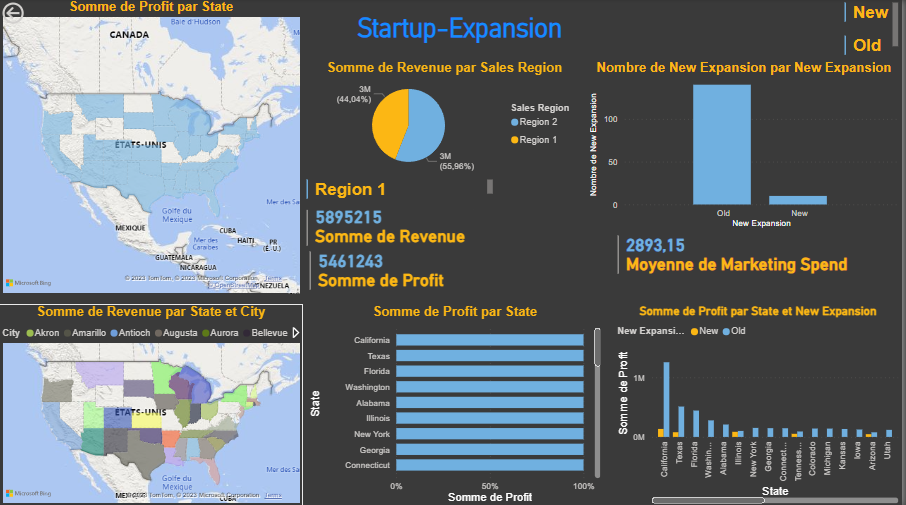

The page's visual inventory and layout, read from the dashboard file:
{"tool":"powerbi","page":{"name":"Page 1","canvas":[1280,720],"ordinal":0},"visuals":[{"type":"filledMap","fields":{"Category":["startups-expension-modified.State"],"Y":["Sum(startups-expension-modified.Profit)"]},"box":[0,0,430.9,422.4],"z":0},{"type":"textbox","box":[434.9,13,436.3,59],"z":1000},{"type":"filledMap","fields":{"Y":["Sum(startups-expension-modified.Revenue)"],"Category":["startups-expension-modified.State"],"Series":["startups-expension-modified.City"]},"box":[0,432.3,430.9,287.7],"z":2000},{"type":"clusteredColumnChart","fields":{"Y":["CountNonNull(startups-expension-modified.New Expansion)"],"Category":["startups-expension-modified.New Expansion"]},"box":[832,86.5,447.9,243.8],"z":3000},{"type":"pieChart","fields":{"Y":["Sum(startups-expension-modified.Revenue)"],"Category":["startups-expension-modified.Sales Region"]},"box":[430.9,86.5,401.1,164.4],"z":4000},{"type":"multiRowCard","fields":{"Values":["Sum(startups-expension-modified.Revenue)"]},"box":[430.9,290.6,240.9,69.4],"z":5000},{"type":"multiRowCard","fields":{"Values":["Sum(startups-expension-modified.Profit)"]},"box":[435.1,352.9,219.7,69.4],"z":6000},{"type":"multiRowCard","fields":{"Values":["Avg(startups-expension-modified.Marketing Spend)"]},"box":[871.7,330.2,345.8,75.1],"z":7000},{"type":"multiRowCard","fields":{"Values":["startups-expension-modified.Sales Region"]},"box":[430.9,250.9,273.5,48.2],"z":8000},{"type":"multiRowCard","fields":{"Values":["startups-expension-modified.New Expansion"]},"box":[1193.4,0,86.5,86.5],"z":9000},{"type":"hundredPercentStackedBarChart","fields":{"Y":["Sum(startups-expension-modified.Profit)"],"Category":["startups-expension-modified.State","startups-expension-modified.Store ID"]},"box":[435.1,432.3,422.4,287.7],"z":10000},{"type":"actionButton","box":[0,0,100,40],"z":11000},{"type":"clusteredColumnChart","fields":{"Category":["startups-expension-modified.State"],"Y":["Sum(startups-expension-modified.Profit)"],"Series":["startups-expension-modified.New Expansion"]},"box":[871.7,432.3,408.2,287.7],"z":12000}]}

Visuals, with their boxes in screenshot pixels (x1, y1, x2, y2), scaled from the page's 1280x720 canvas onto the 906x505 screenshot:
filledMap - startups-expension-modified.State x Sum(startups-expension-modified.Profit): (left=0, top=0, right=305, bottom=296)
textbox: (left=308, top=9, right=617, bottom=50)
filledMap - Sum(startups-expension-modified.Revenue) x startups-expension-modified.State: (left=0, top=303, right=305, bottom=504)
clusteredColumnChart - CountNonNull(startups-expension-modified.New Expansion) x startups-expension-modified.New Expansion: (left=589, top=61, right=905, bottom=232)
pieChart - Sum(startups-expension-modified.Revenue) x startups-expension-modified.Sales Region: (left=305, top=61, right=589, bottom=176)
multiRowCard - Sum(startups-expension-modified.Revenue): (left=305, top=204, right=476, bottom=252)
multiRowCard - Sum(startups-expension-modified.Profit): (left=308, top=248, right=463, bottom=296)
multiRowCard - Avg(startups-expension-modified.Marketing Spend): (left=617, top=232, right=862, bottom=284)
multiRowCard - startups-expension-modified.Sales Region: (left=305, top=176, right=499, bottom=210)
multiRowCard - startups-expension-modified.New Expansion: (left=845, top=0, right=905, bottom=61)
hundredPercentStackedBarChart - Sum(startups-expension-modified.Profit) x startups-expension-modified.State: (left=308, top=303, right=607, bottom=504)
actionButton: (left=0, top=0, right=71, bottom=28)
clusteredColumnChart - startups-expension-modified.State x Sum(startups-expension-modified.Profit): (left=617, top=303, right=905, bottom=504)
